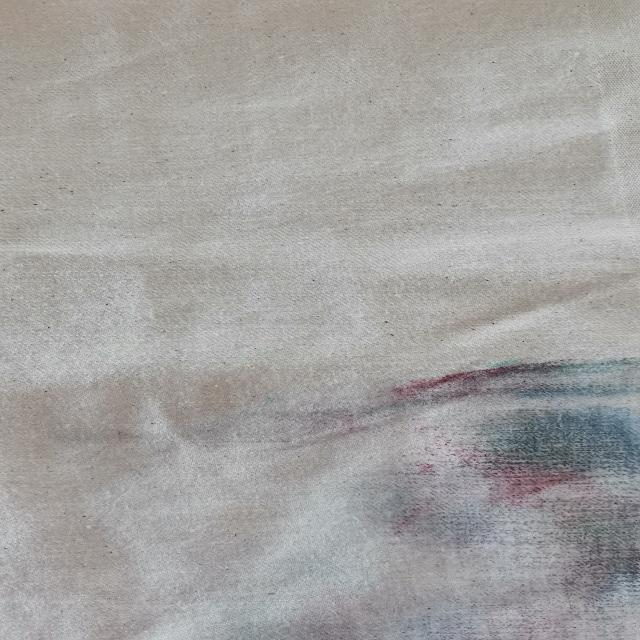taaaches: (263, 342, 640, 640)
